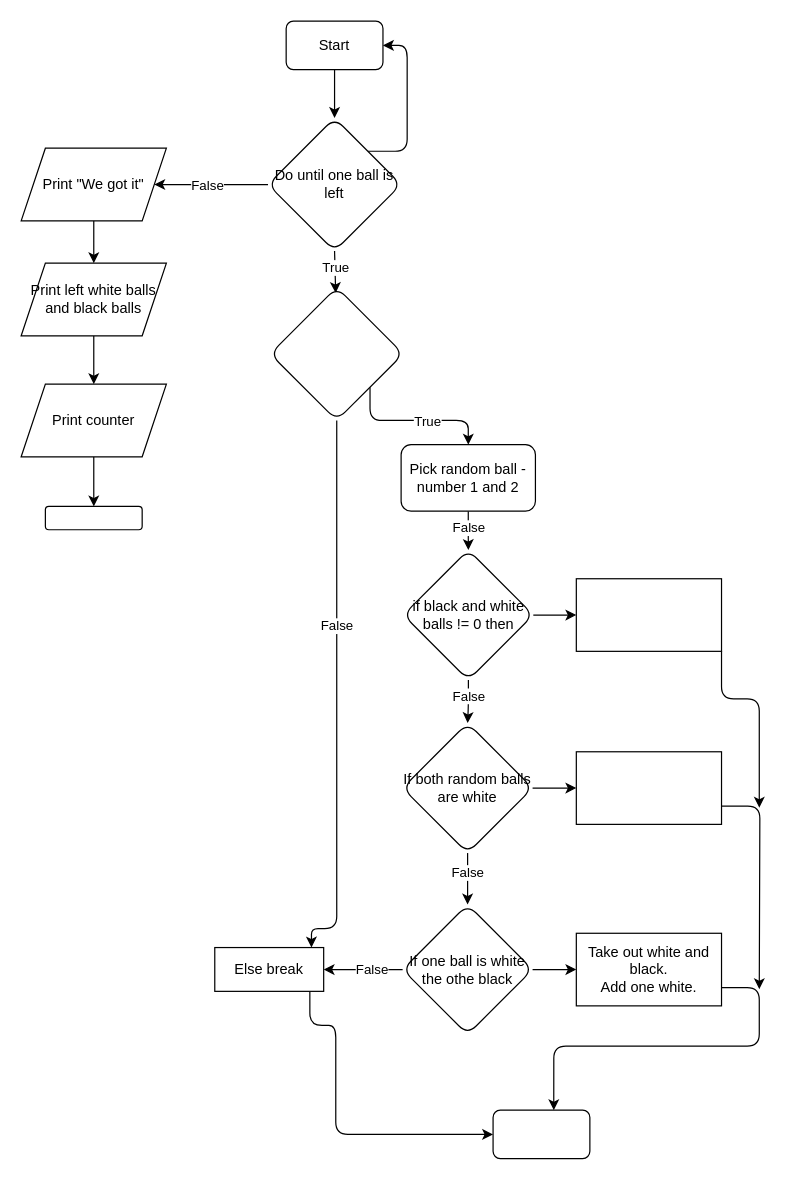
Image size: 791x1180. Some labels were removed from this diagram. Here are the shapes that lost their labels. From the top down, the centre of each, then its label:
point 336,353: Do while black or white balls >0
point 93,517: Stop
point 648,614: Take out two black balls. Add one black.
point 648,787: Take out two white balls. Add one black.
point 541,1134: Break
